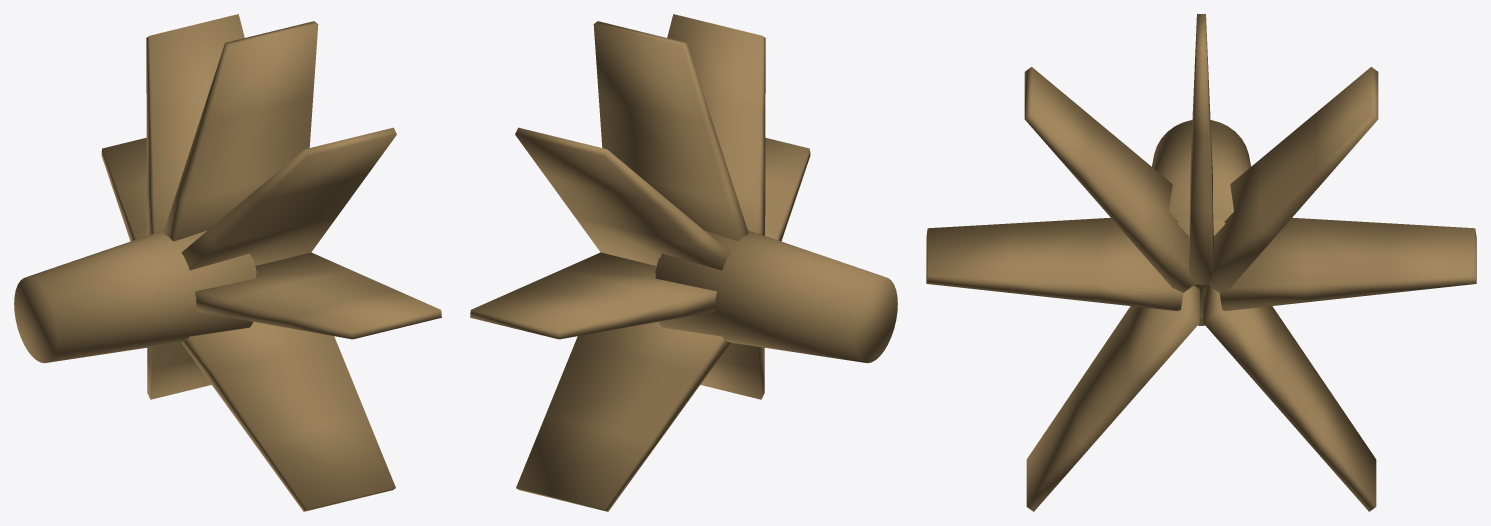
Rendered from US_SSN_Sturgeon_PROPULSOR_01.fbx.
3 renders of one model, left to right at view 1: azimuth 30°, elevation 25°; view 2: azimuth 150°, elevation 25°; view 3: azimuth 270°, elevation 25°, orthographic. The views are drawn at different scales.
Visible parts, largest first — view 1: US_SSN_Sturgeon_PROPULSOR_01; view 2: US_SSN_Sturgeon_PROPULSOR_01; view 3: US_SSN_Sturgeon_PROPULSOR_01.
Boxes of the visible parts, x1,y1,x2,y2 form: US_SSN_Sturgeon_PROPULSOR_01: [14, 14, 441, 511]; US_SSN_Sturgeon_PROPULSOR_01: [470, 14, 897, 511]; US_SSN_Sturgeon_PROPULSOR_01: [926, 14, 1476, 511].
Bounding box in the file's own units: 2.2 × 3.42 × 3.09.
